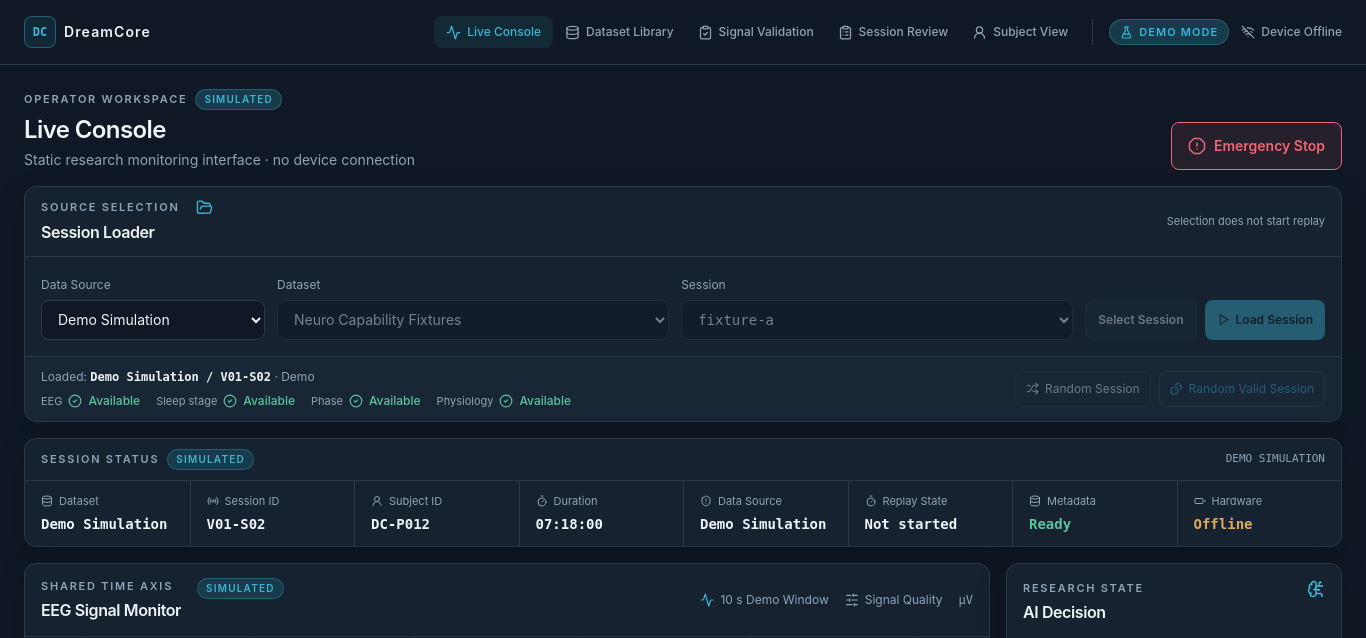
it: application routing and core safety boundaries › keeps Emergency Stop visible and changes only local demo state
Click the button "Emergency Stop" at (1256, 146), box [1171, 122, 1342, 170]
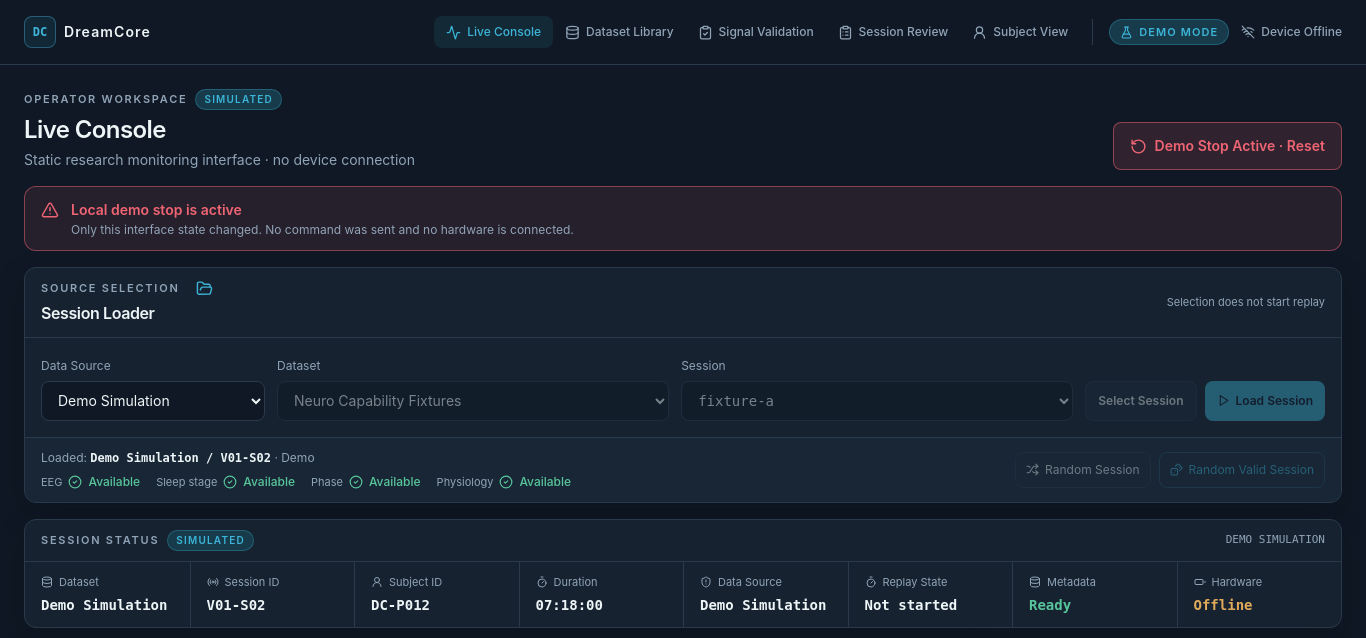
Check: the message shows "Local demo stop is active", box [71, 201, 242, 218]
Check: the text "No command was sent" is shown, box [71, 222, 574, 237]
Check: the button with aria-label "Reset local demo" is shown, box [1113, 122, 1342, 170]
